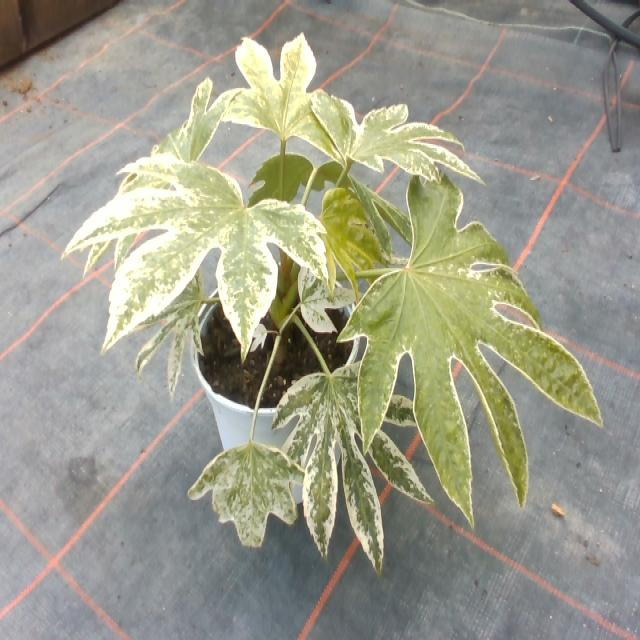Fatsia-japonica: (329, 167, 602, 529), (44, 136, 329, 358), (268, 358, 446, 574), (71, 78, 246, 288), (306, 71, 488, 195), (186, 428, 301, 578), (222, 26, 338, 165), (115, 276, 207, 383), (312, 180, 385, 302)
